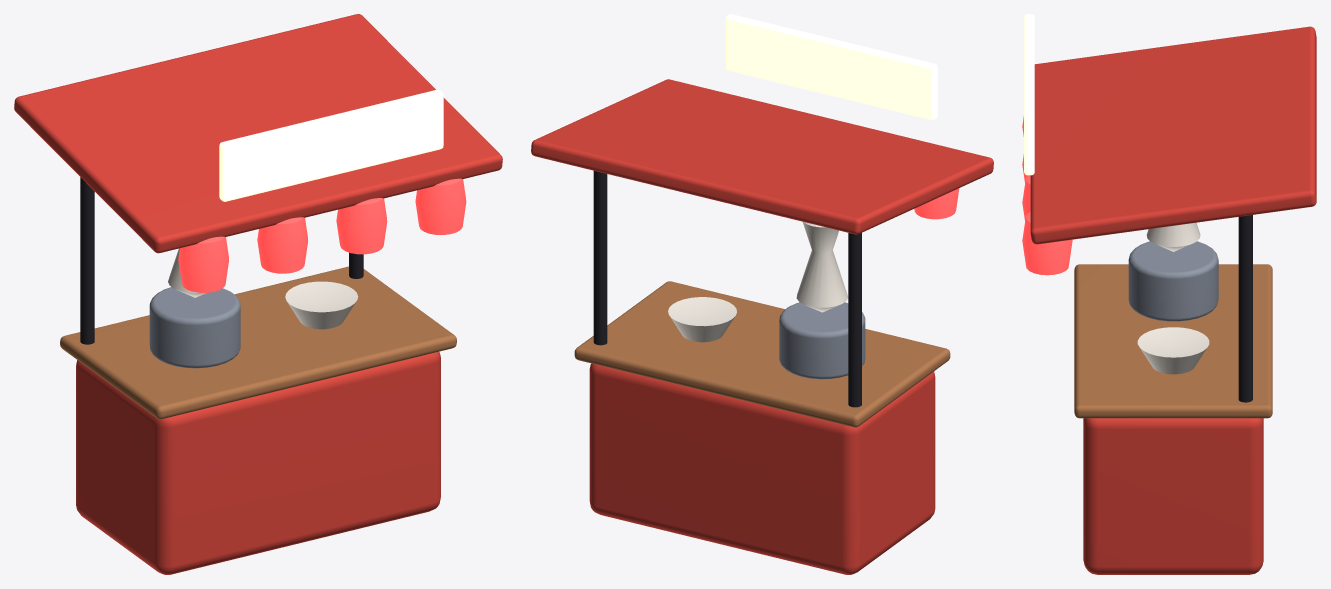
Rendered from noodle_stall.glb.
3 renders of one model, left to right at view 1: azimuth 30°, elevation 25°; view 2: azimuth 150°, elevation 25°; view 3: azimuth 270°, elevation 25°, orthographic. The views are drawn at different scales.
Visible parts, largest first — view 1: noodle_stall; view 2: noodle_stall; view 3: noodle_stall.
Part boxes in pixels (bbox=[...]): noodle_stall: bbox=[14, 14, 502, 574]; noodle_stall: bbox=[531, 14, 993, 574]; noodle_stall: bbox=[1022, 14, 1316, 574].
Size of the model in its own units: 2.2 by 2.72 by 1.63.
Materials: 1 (1 with a texture image).
